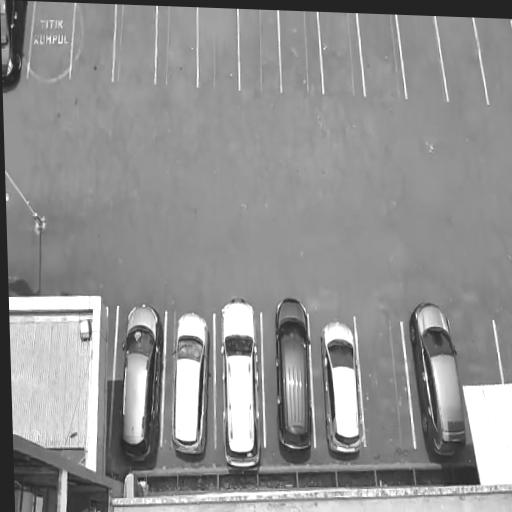Car: (404, 286, 470, 463), (216, 295, 268, 480), (118, 303, 169, 473), (168, 305, 216, 467), (317, 313, 367, 467), (270, 293, 317, 455)
Space Available: (359, 319, 406, 454), (456, 311, 498, 388), (399, 17, 442, 92), (199, 8, 239, 88), (159, 6, 197, 90), (360, 14, 399, 95), (281, 11, 320, 91), (239, 9, 278, 88), (321, 13, 360, 91), (118, 6, 155, 82), (440, 16, 474, 96), (76, 5, 112, 79), (485, 18, 512, 108), (36, 1, 70, 70), (500, 316, 512, 377)
